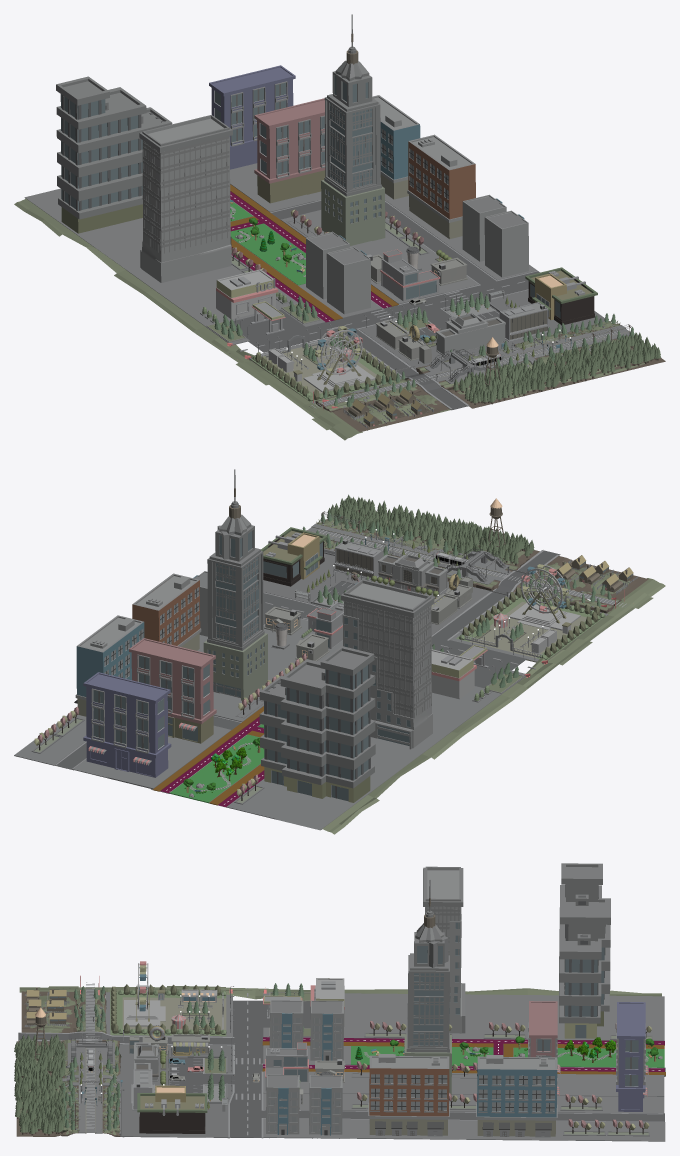
3 views of the same model, one above another, from view 1: azimuth 30°, elevation 25°; view 2: azimuth 150°, elevation 25°; view 3: azimuth 270°, elevation 25° (orthographic). The views are drawn at different scales.
Visible parts, largest first — view 1: object 15, object 5, object 49, object 22, object 35, object 3, object 23, object 50, object 48, object 36, object 24, object 39 (+26 smaller); view 2: object 5, object 49, object 15, object 35, object 3, object 22, object 23, object 39, object 48, object 36, object 50, object 24 (+28 smaller); view 3: object 5, object 49, object 15, object 22, object 19, object 35, object 3, object 50, object 6, object 48, object 7, object 14 (+32 smaller).
Boxes of the visible parts, bbox=[...] form: object 15: bbox=[141, 97, 546, 376]; object 5: bbox=[24, 163, 630, 407]; object 49: bbox=[56, 60, 568, 340]; object 22: bbox=[60, 94, 539, 410]; object 35: bbox=[61, 75, 560, 423]; object 3: bbox=[14, 199, 649, 440]; object 23: bbox=[143, 14, 436, 381]; object 50: bbox=[229, 199, 585, 430]; object 48: bbox=[453, 332, 661, 403]; object 36: bbox=[231, 98, 423, 273]; object 24: bbox=[216, 269, 549, 392]; object 39: bbox=[209, 65, 295, 169]; object 5: bbox=[14, 522, 618, 830]; object 49: bbox=[207, 514, 434, 801]; object 15: bbox=[75, 536, 496, 749]; object 35: bbox=[93, 531, 632, 801]; object 3: bbox=[316, 510, 665, 834]; object 22: bbox=[54, 550, 560, 798]; object 23: bbox=[213, 469, 525, 718]; object 39: bbox=[83, 672, 171, 777]; object 48: bbox=[327, 494, 534, 563]; object 36: bbox=[38, 575, 356, 793]; object 50: bbox=[54, 532, 637, 792]; object 24: bbox=[305, 552, 580, 699]; object 5: bbox=[62, 986, 665, 1141]; object 49: bbox=[96, 863, 610, 1105]; object 15: bbox=[81, 867, 557, 1135]; object 22: bbox=[18, 884, 665, 1137]; object 19: bbox=[222, 1017, 554, 1136]; object 35: bbox=[48, 922, 638, 1086]; object 3: bbox=[19, 986, 661, 1134]; object 50: bbox=[19, 981, 663, 1138]; object 6: bbox=[82, 967, 557, 1135]; object 48: bbox=[14, 1034, 65, 1133]; object 7: bbox=[64, 997, 232, 1137]; object 14: bbox=[85, 997, 555, 1136].
Bounding box in the file's own units: 1.25 × 0.8244 × 2.24.
190 materials, 16 textured.
